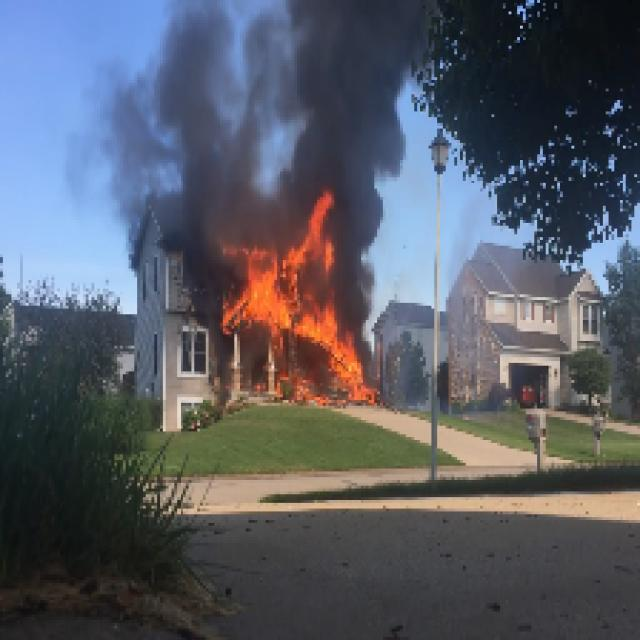Fire: (220, 245, 292, 328), (297, 192, 334, 334), (323, 332, 366, 397)
Smoke: (163, 2, 283, 228), (280, 3, 426, 183), (66, 66, 163, 223), (441, 206, 508, 340), (343, 188, 406, 320)
